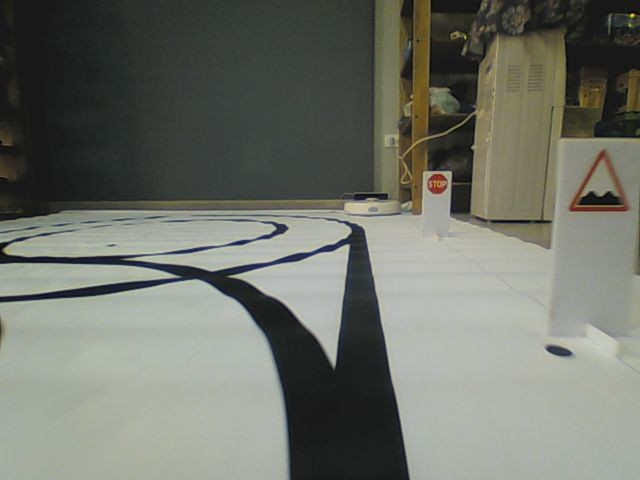Nerov: (567, 148, 632, 212)
Stop: (426, 172, 447, 195)
